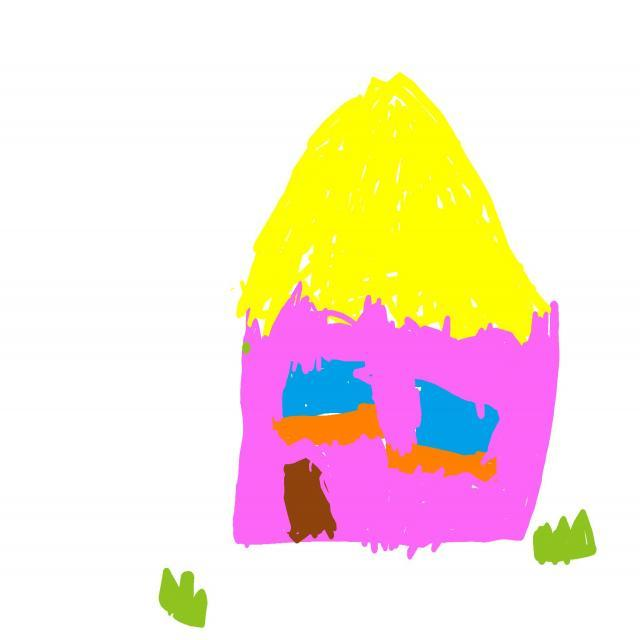door: (284, 459, 337, 544)
house: (234, 74, 560, 556)
roof: (238, 68, 553, 347)
wall: (232, 284, 557, 546)
window: (273, 359, 384, 446), (414, 376, 504, 477)
